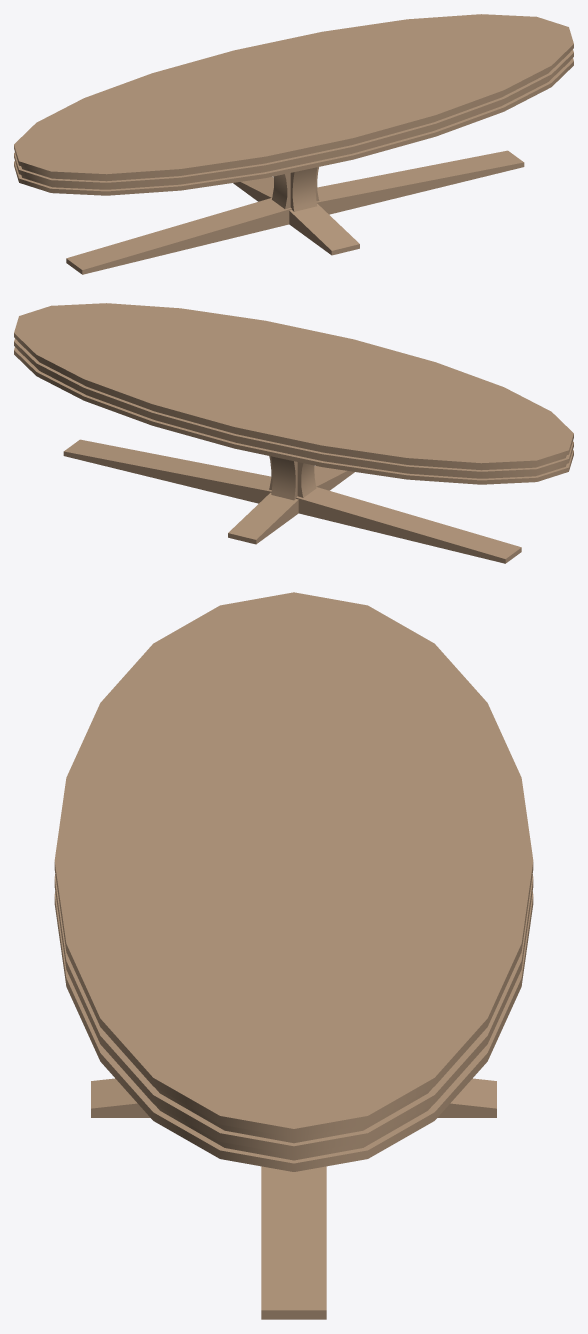
Rendered from ConservatoryTable.fbx.
3 views of the same model, one above another, from view 1: azimuth 30°, elevation 25°; view 2: azimuth 150°, elevation 25°; view 3: azimuth 270°, elevation 25° (orthographic). The views are drawn at different scales.
Visible parts, largest first — view 1: pCylinder2; view 2: pCylinder2; view 3: pCylinder2.
Boxes of the visible parts, x1=… form: pCylinder2: x1=14, y1=14, x2=573, y2=274; pCylinder2: x1=14, y1=303, x2=573, y2=563; pCylinder2: x1=54, y1=592, x2=533, y2=1319.
Size of the model in its own units: 19.51 by 4.11 by 7.35.
